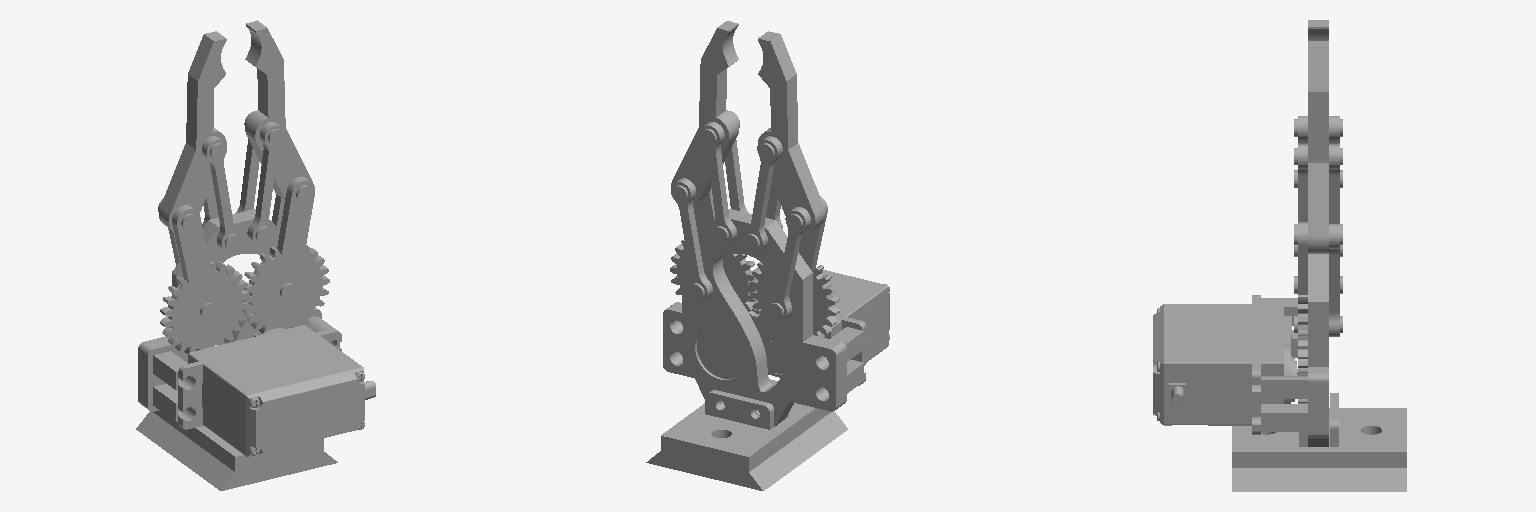
robot.urdf — gripper:
<?xml version="1.0"?>
<robot name="gripper">

  <!-- Gripper base link with STL mesh -->
  <link name="gripper_base">
    <!-- Gripper mesh for visualization -->
    <visual>
      <origin xyz="0 0 0" rpy="3.14159 0 0"/>  <!-- Flipped 180 degrees around X axis -->
      <geometry>
        <mesh filename="package://motion_control_package/meshes/gripper.stl" scale="0.001 0.001 0.001"/>
      </geometry>
      <material name="gripper_material">
        <color rgba="0.7 0.7 0.7 1.0"/>  <!-- Light gray -->
      </material>
    </visual>

    <!-- Simplified collision geometry for MoveIt (box approximation) -->
    <collision>
      <origin xyz="0 0 0.075" rpy="0 0 0"/>
      <geometry>
        <box size="0.08 0.08 0.15"/>  <!-- Approximate gripper as a box -->
      </geometry>
    </collision>

    <inertial>
      <origin xyz="0 0 0.075" rpy="0 0 0"/>
      <mass value="0.5"/>
      <inertia ixx="0.001" ixy="0.0" ixz="0.0"
               iyy="0.001" iyz="0.0"
               izz="0.001"/>
    </inertial>
  </link>

  <!-- Gripper tip frame for easy reference -->
  <link name="gripper_tip">
    <inertial>
      <origin xyz="0 0 0" rpy="0 0 0"/>
      <mass value="0.01"/>
      <inertia ixx="0.00001" ixy="0.0" ixz="0.0"
               iyy="0.00001" iyz="0.0"
               izz="0.00001"/>
    </inertial>
  </link>

  <joint name="gripper_tip_joint" type="fixed">
    <parent link="gripper_base"/>
    <child link="gripper_tip"/>
    <origin xyz="0 0 0.15" rpy="0 0 0"/>  <!-- Adjust Z value based on gripper length -->
  </joint>

</robot>

--- What the picture shows (computed from the rendered views, not written in the file) ---
Views: 3 orthographic renders of the robot side by side, from view 1: azimuth 30°, elevation 25°; view 2: azimuth 150°, elevation 25°; view 3: azimuth 270°, elevation 25°.
Model gripper with 2 links and 1 joints (1 fixed), rooted at gripper_base, posed every joint at zero.
Links seen in each view (by area): view 1: gripper_base; view 2: gripper_base; view 3: gripper_base.
Boxes of the visible links, box(x1,y1,x2,y2) form: gripper_base: box(136, 20, 375, 490); gripper_base: box(646, 21, 889, 490); gripper_base: box(1153, 20, 1406, 491).
Size in the robot's own frame: 0.0601 by 0.0723 by 0.1349 metres.
1 mesh visuals loaded from 1 distinct referenced files (1 binary STL).
